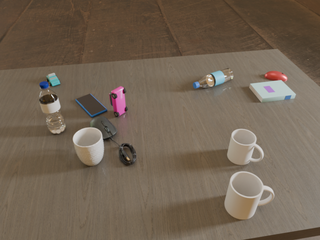book: (249, 80, 296, 102)
bottle: (39, 82, 66, 134), (193, 68, 233, 88)
cup: (225, 172, 274, 219), (227, 129, 263, 165), (73, 127, 104, 166)
mouse: (90, 116, 117, 141), (264, 71, 287, 81)
phone: (76, 94, 107, 117)
toy_car: (109, 86, 128, 117), (46, 73, 60, 86)
